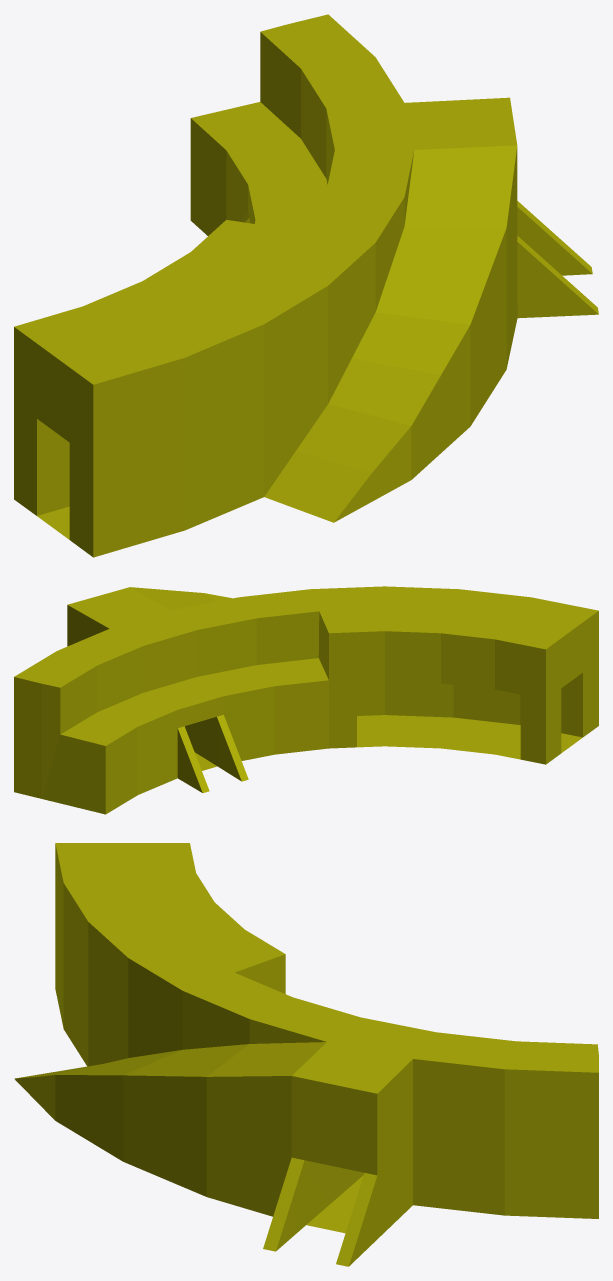
The model's file is courtyard_outer_3_new2.fbx.
3 renders of one model, top to bottom at view 1: azimuth 30°, elevation 25°; view 2: azimuth 150°, elevation 25°; view 3: azimuth 270°, elevation 25°, orthographic. The views are drawn at different scales.
Visible parts, largest first — view 1: courtyard_outer_8; view 2: courtyard_outer_8; view 3: courtyard_outer_8.
Boxes of the visible parts, x1,y1,x2,y2 form: courtyard_outer_8: (14,14,598,557); courtyard_outer_8: (14,586,598,814); courtyard_outer_8: (14,843,598,1266).
Size of the model in its own units: 48.32 by 11.88 by 43.05.
